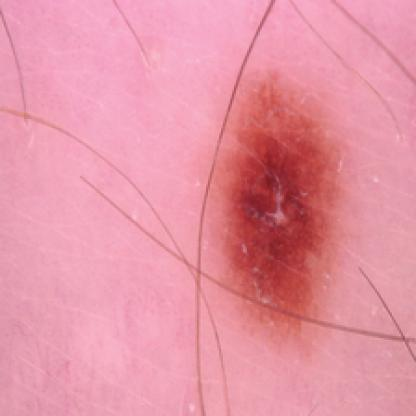benign: (221, 72, 347, 327)
